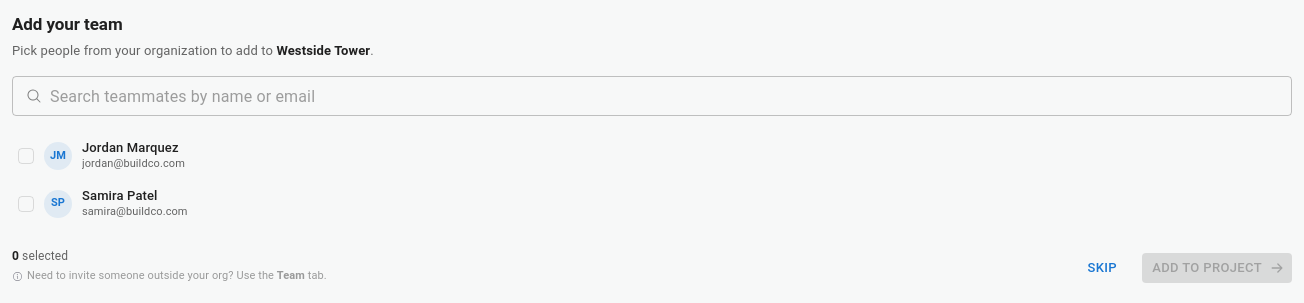
Test case: AddProjectMembersStep › disables Add to project until at least one teammate is selected
Expected: the button "Add to project" is disabled, x1=1142 y1=253 x2=1292 y2=284
Click the text "Jordan Marquez" at (130, 148), box x1=82 y1=140 x2=179 y2=155
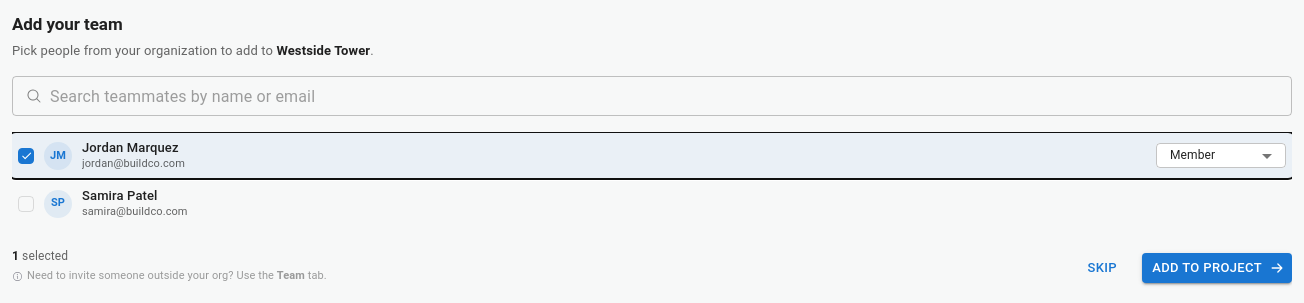
Result: the button "Add to project" is enabled at x1=1142 y1=253 x2=1292 y2=284
